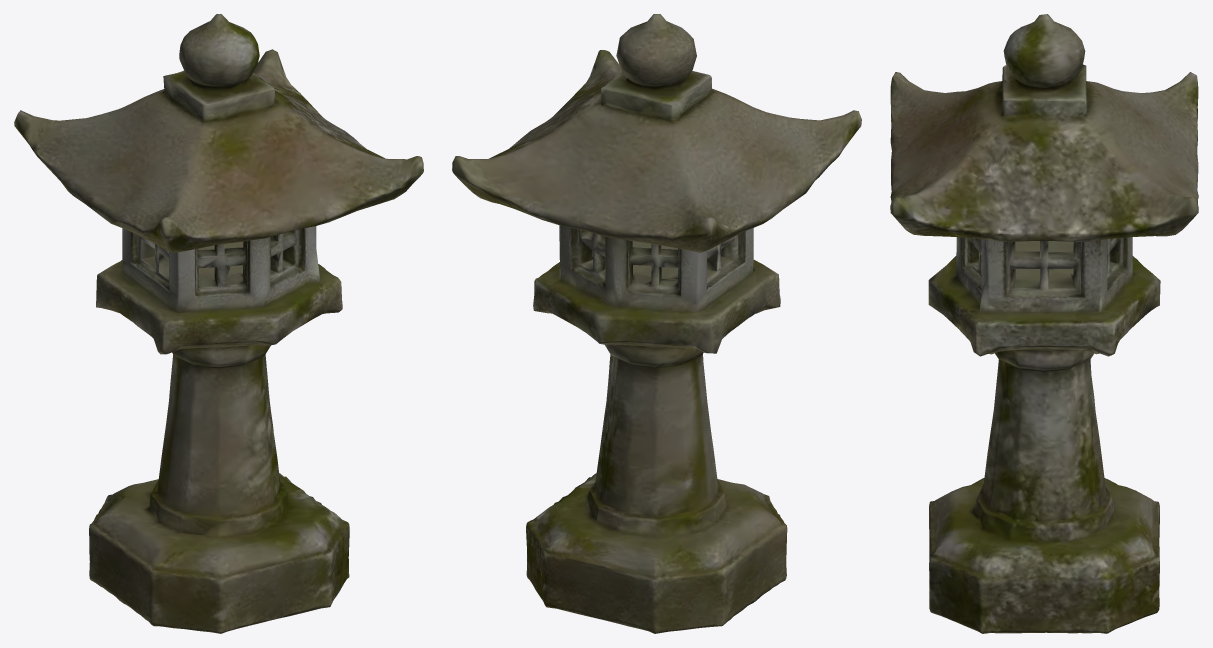
The model's file is toro.glb.
3 views of the same model, side by side, from view 1: azimuth 30°, elevation 25°; view 2: azimuth 150°, elevation 25°; view 3: azimuth 270°, elevation 25° (orthographic).
Parts seen in each view (by area): view 1: tripo_node_dde2bfdd-d4db-465e-9c52-a3eedf4c0f90; view 2: tripo_node_dde2bfdd-d4db-465e-9c52-a3eedf4c0f90; view 3: tripo_node_dde2bfdd-d4db-465e-9c52-a3eedf4c0f90.
Boxes of the visible parts, left/top/right/bottom form: tripo_node_dde2bfdd-d4db-465e-9c52-a3eedf4c0f90: left=14, top=14, right=423, bottom=633; tripo_node_dde2bfdd-d4db-465e-9c52-a3eedf4c0f90: left=452, top=14, right=861, bottom=633; tripo_node_dde2bfdd-d4db-465e-9c52-a3eedf4c0f90: left=890, top=14, right=1198, bottom=633.
Bounding box in the file's own units: 0.4832 × 1 × 0.4882.
1 material, 1 textured.
